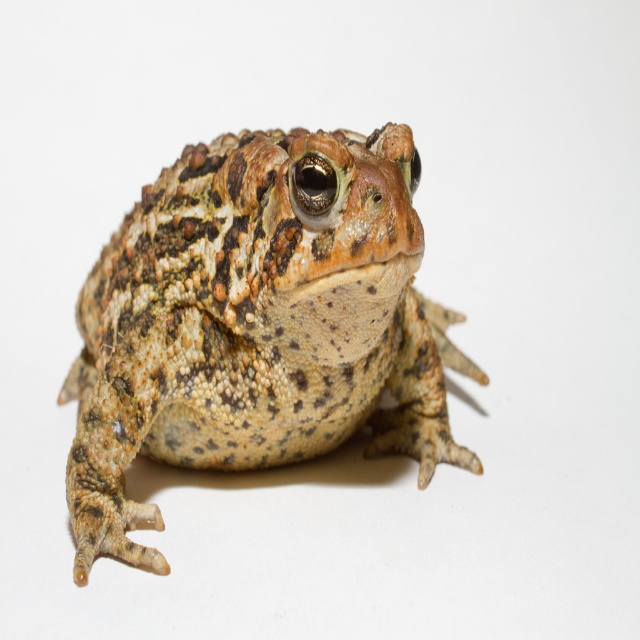Frog: (54, 119, 489, 586)
